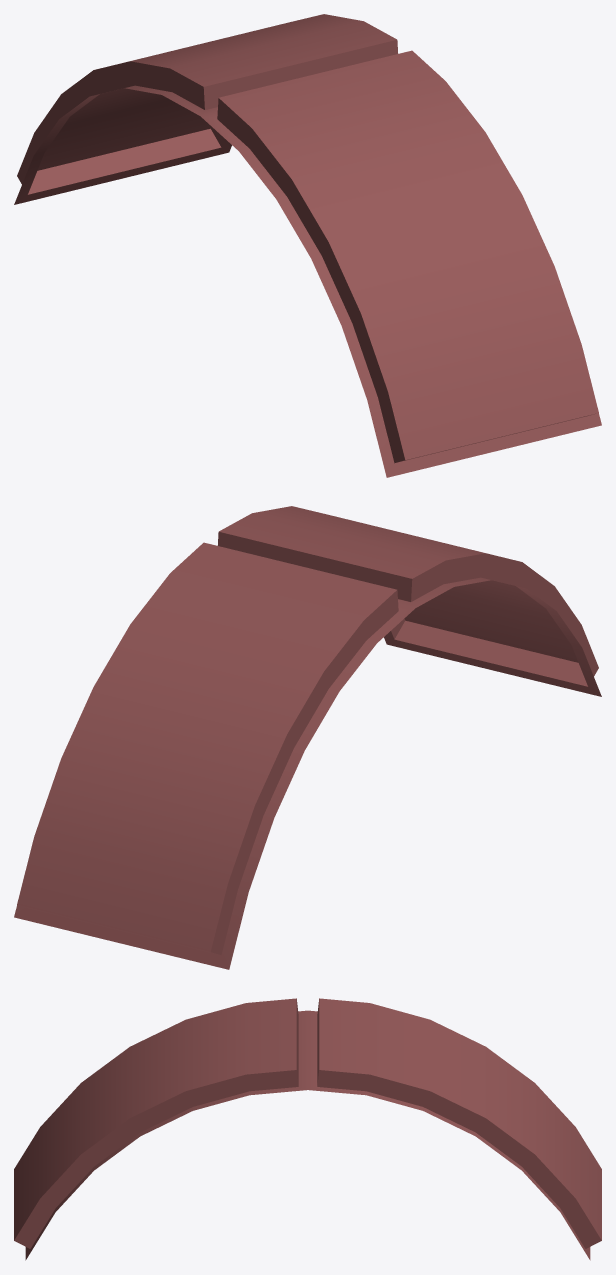
The model's file is SM_Ceiling_ArchVaultedB2m.fbx.
3 views of the same model, one above another, from view 1: azimuth 30°, elevation 25°; view 2: azimuth 150°, elevation 25°; view 3: azimuth 270°, elevation 25° (orthographic). The views are drawn at different scales.
Visible parts, largest first — view 1: SM_Ceiling_ArchVaultedB2m; view 2: SM_Ceiling_ArchVaultedB2m; view 3: SM_Ceiling_ArchVaultedB2m.
Boxes of the visible parts, x1,y1,x2,y2 form: SM_Ceiling_ArchVaultedB2m: (14,14,601,477); SM_Ceiling_ArchVaultedB2m: (14,506,601,969); SM_Ceiling_ArchVaultedB2m: (14,998,601,1260).
Size of the model in its own units: 200 by 219 by 625.
